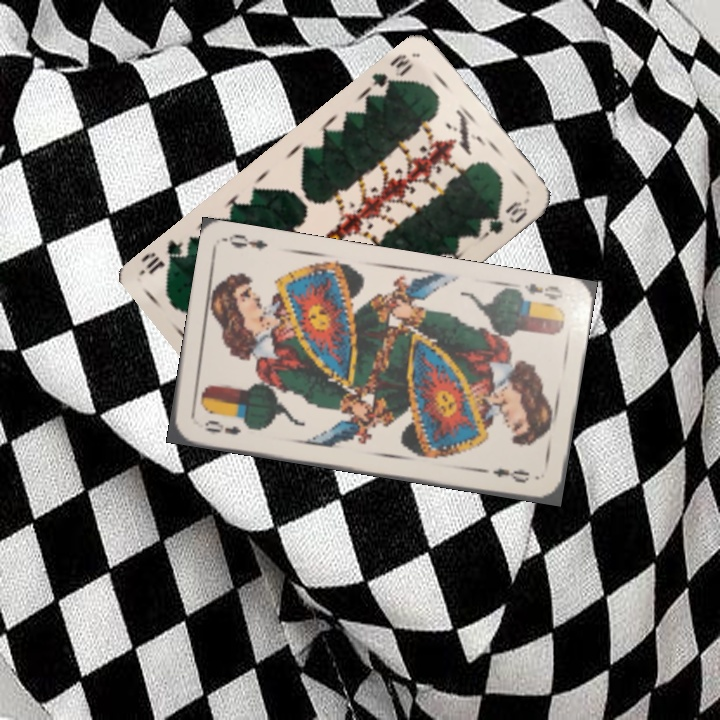EO: (520, 279, 566, 303), (201, 415, 244, 438)
G10: (368, 49, 415, 94)
